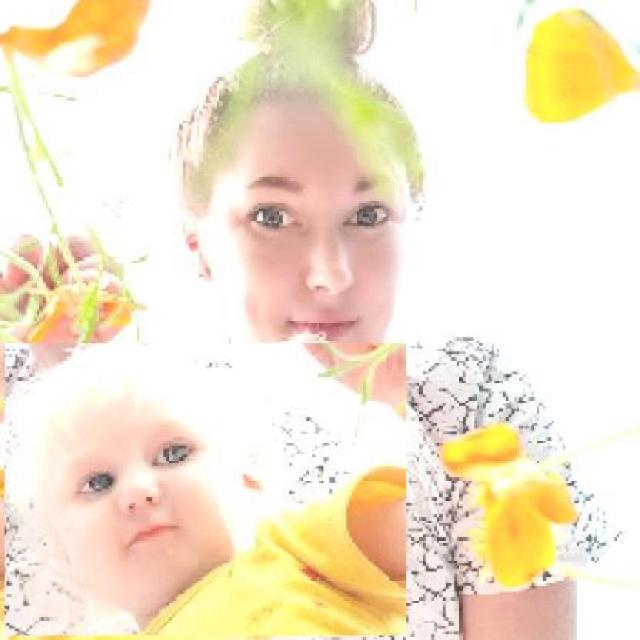child: (3, 343, 406, 637)
